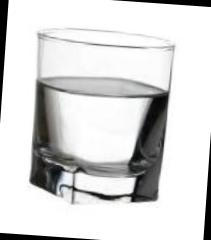glass: (22, 21, 178, 214)
